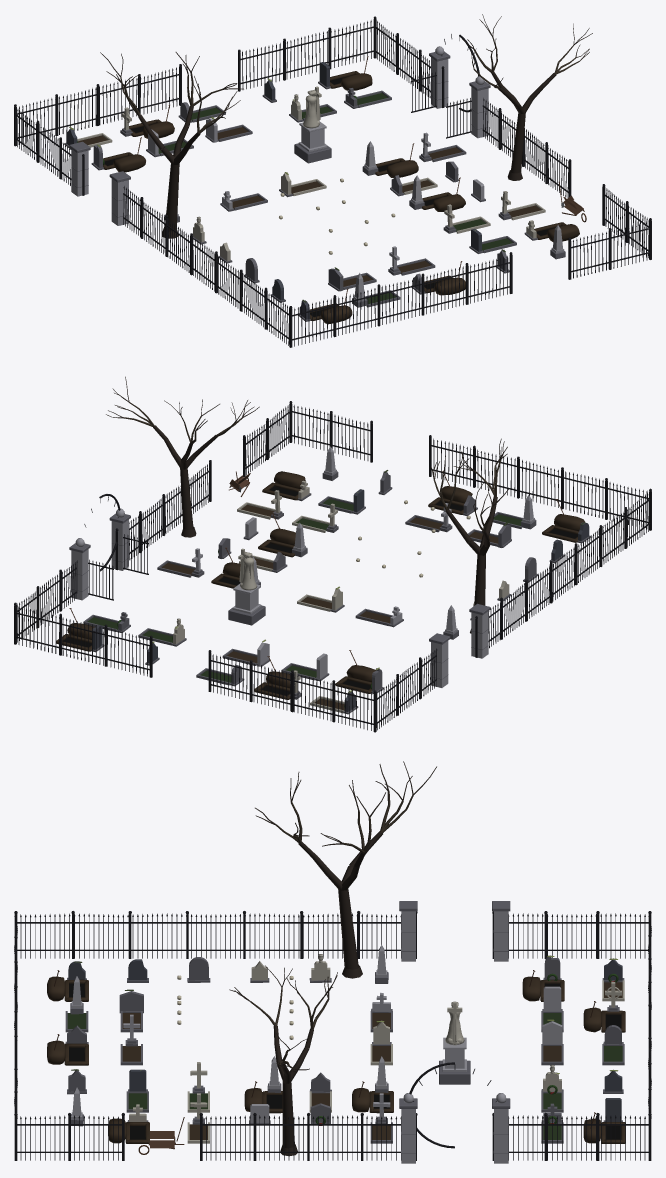
File: hg-graveyard.glb
3 views of the same model, one above another, from view 1: azimuth 30°, elevation 25°; view 2: azimuth 150°, elevation 25°; view 3: azimuth 270°, elevation 25° (orthographic). The views are drawn at different scales.
Parts seen in each view (by area): view 1: hg-graveyard; view 2: hg-graveyard; view 3: hg-graveyard.
Boxes of the visible parts, left/top/right/bottom form: hg-graveyard: left=14, top=14, right=651, bottom=347; hg-graveyard: left=14, top=376, right=651, bottom=732; hg-graveyard: left=14, top=761, right=651, bottom=1163.
Size of the model in its own units: 23.85 by 9.21 by 26.16.
